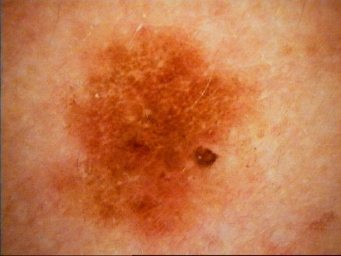melanoma: (70, 34, 242, 234)
